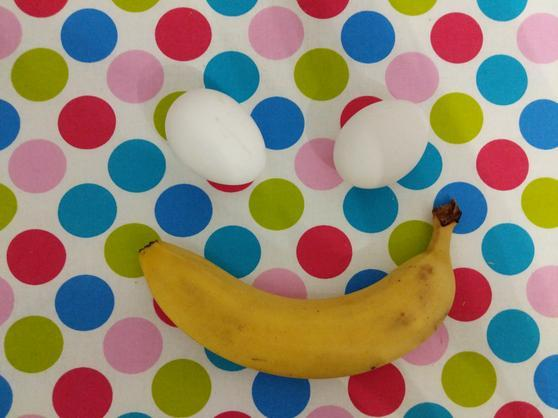banana: (127, 196, 487, 387)
egg: (160, 73, 277, 203), (324, 80, 438, 198)
